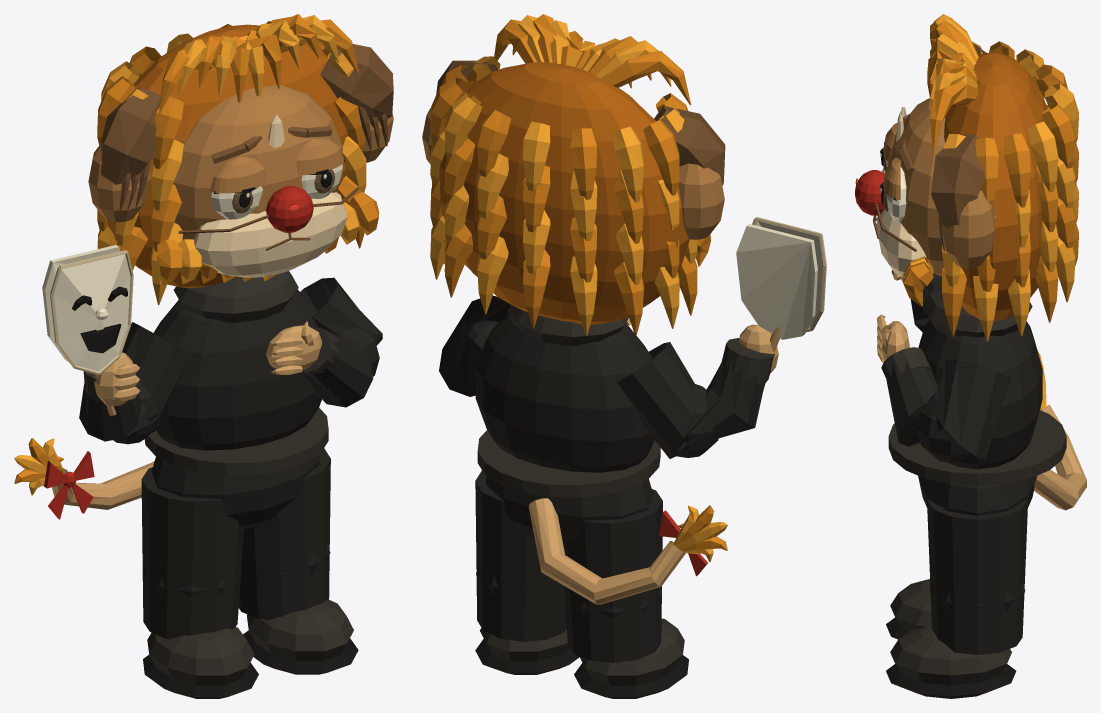
File: Dramacão.glb
The picture shows the model from 3 angles, left to right: view 1: azimuth 30°, elevation 25°; view 2: azimuth 150°, elevation 25°; view 3: azimuth 270°, elevation 25°; orthographic projection. The views are drawn at different scales.
Visible parts, largest first — view 1: Dramacao; view 2: Dramacao; view 3: Dramacao.
Boxes of the visible parts, x1,y1,x2,y2 form: Dramacao: (14,14,393,698); Dramacao: (422,14,826,698); Dramacao: (855,14,1086,698).
Bounding box in the file's own units: 1.87 × 3.12 × 1.05.
Materials: 1 (1 with a texture image).
